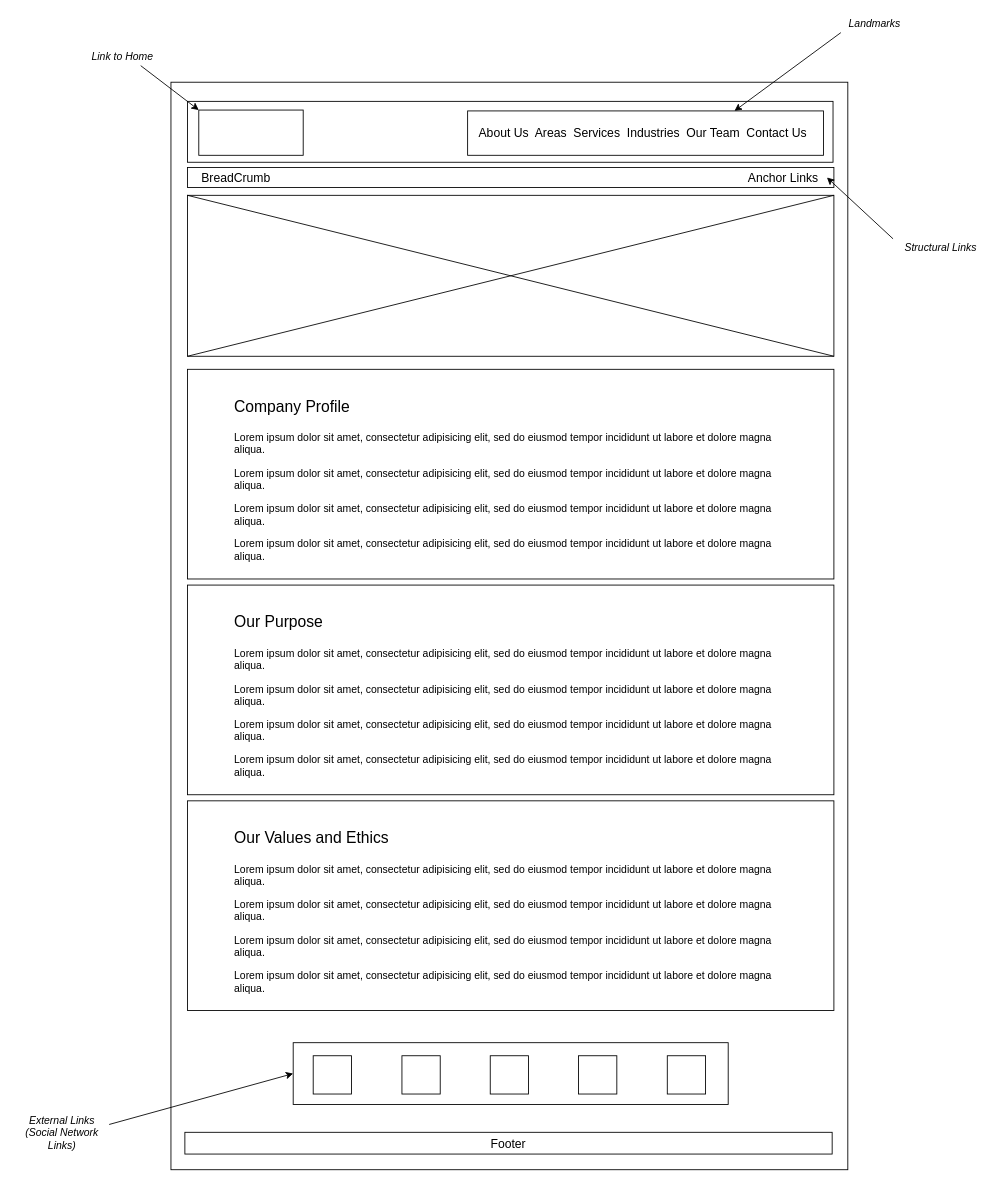
Image size: 1003x1185. Some labels were removed from this diagram. Here are the shapes that lost their labels. From the top down, the centre of each, then its label:
the point at 250,132: LOGO
the point at 510,275: ABOUT US
